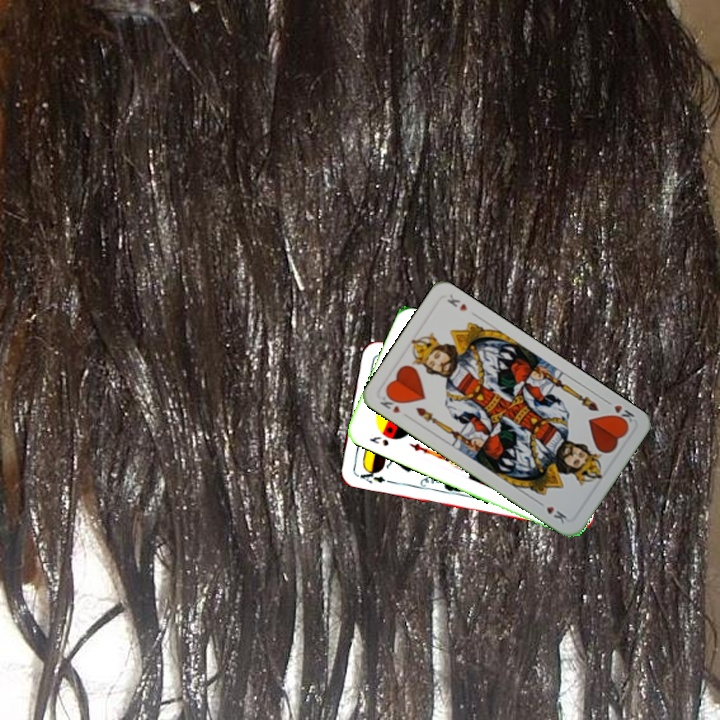EA: (352, 464, 388, 486)
HK: (607, 401, 637, 428), (376, 389, 403, 416)
SK: (365, 432, 392, 449)
